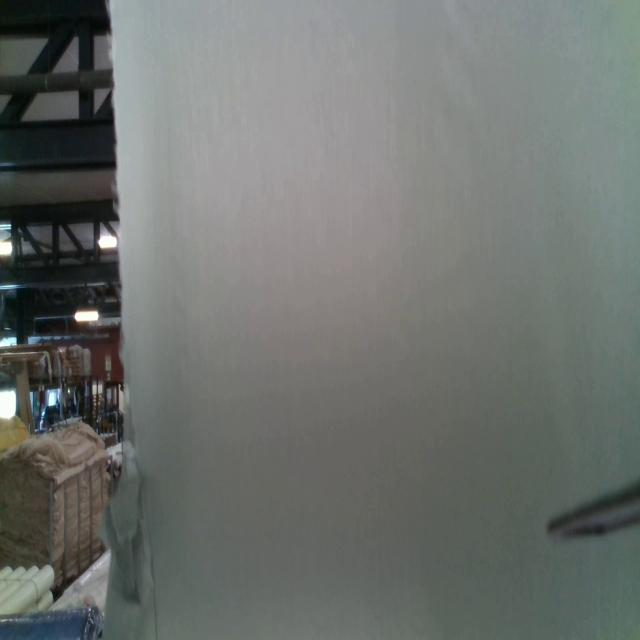crease: (150, 534, 160, 640)
